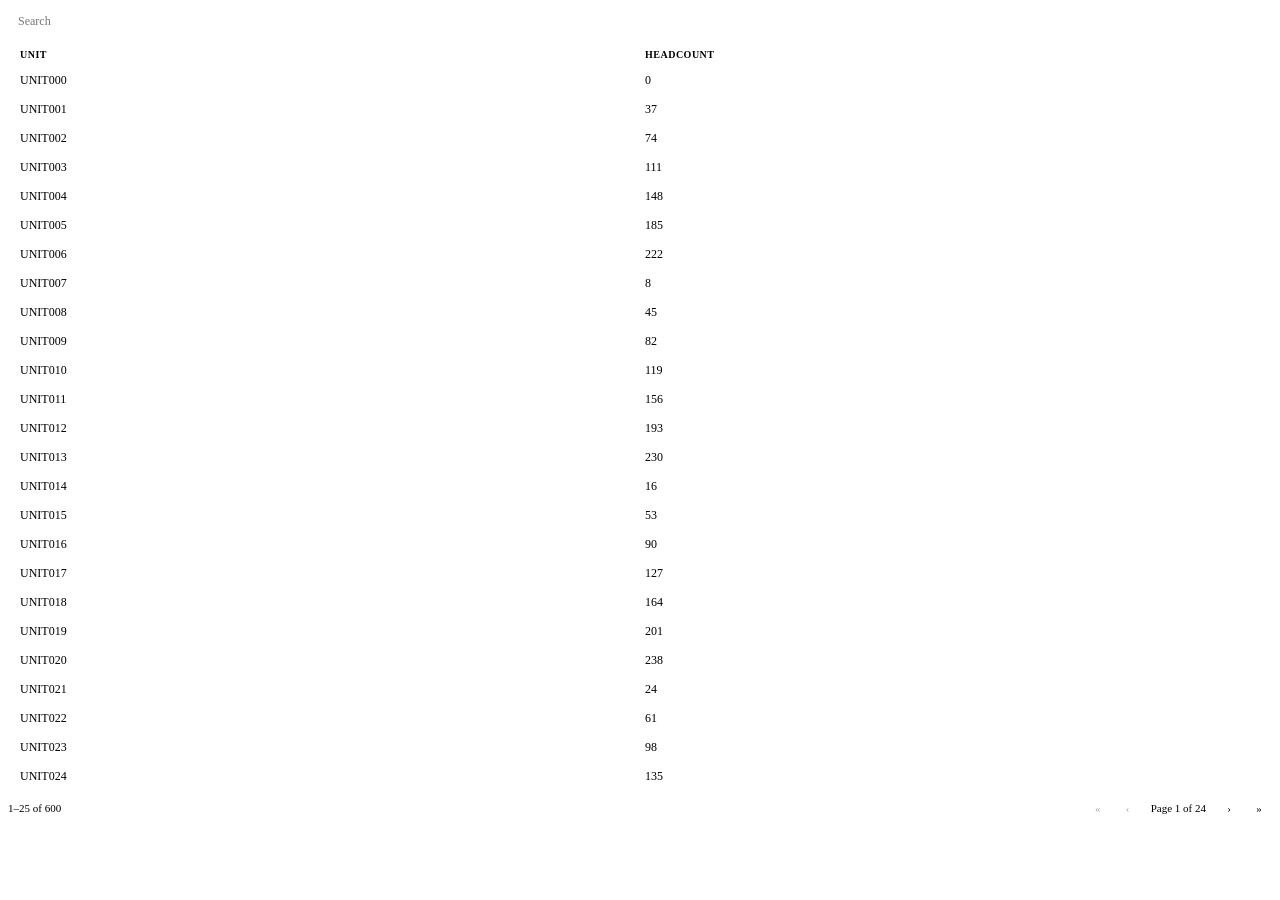
Test case: DataTable › says when nothing matches
In the field with placeholder "Search": (138, 22) [8,8,268,35], type "nothing"
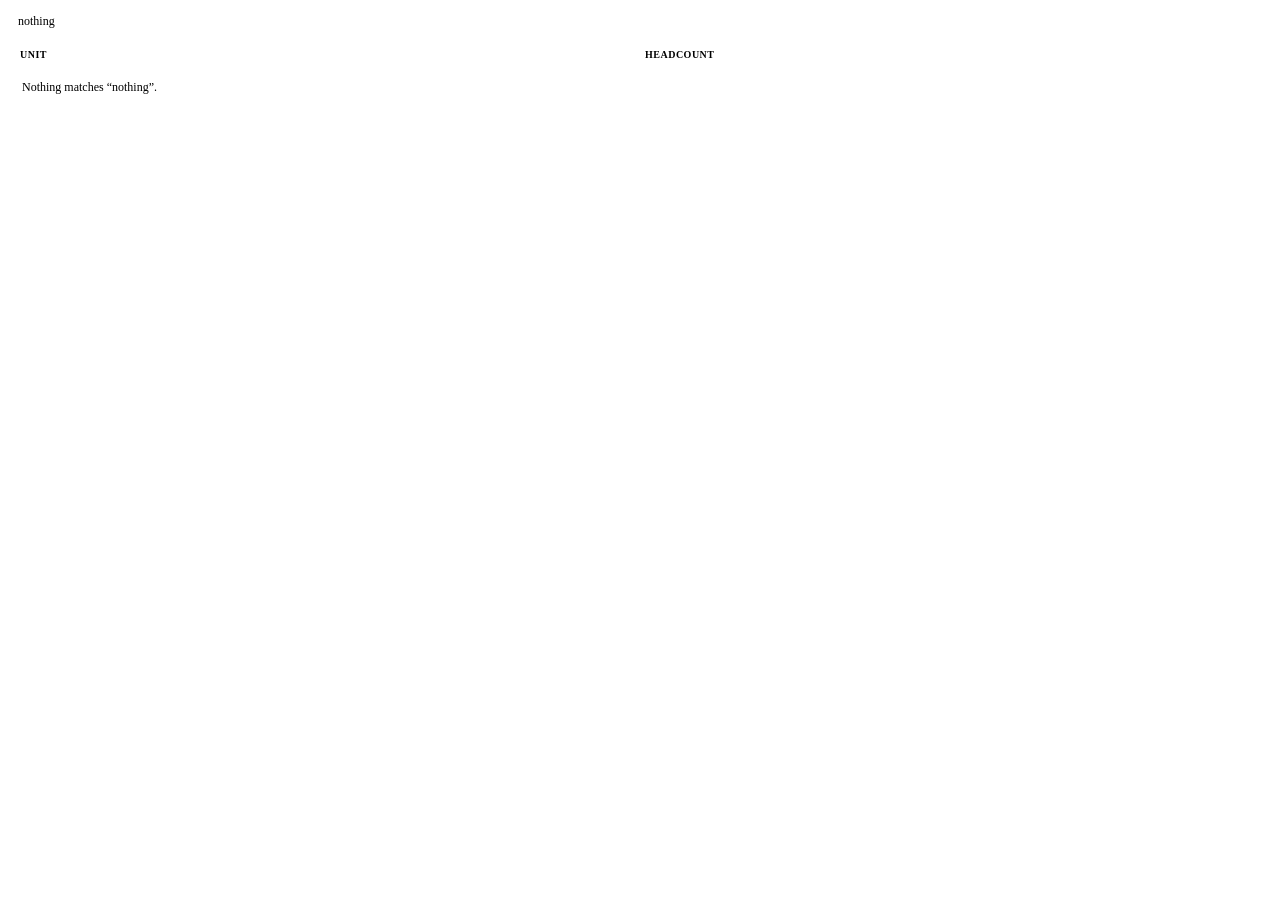
Now the text "Nothing matches “nothing”." is shown, box [22,80,157,94]
